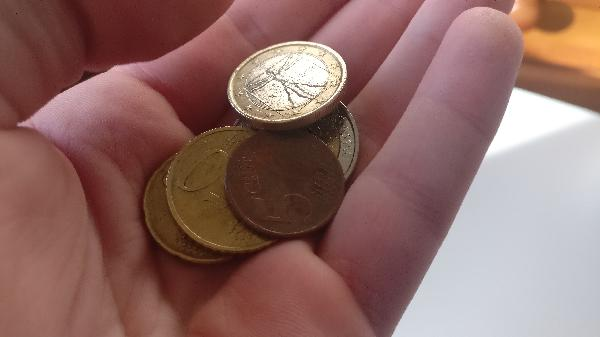Fifty Cent: (165, 128, 290, 262)
Five Cent: (230, 127, 352, 236)
One Euro: (227, 40, 350, 125)
